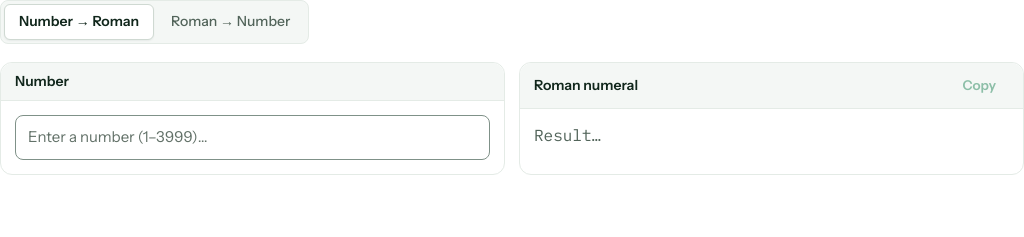
Test: RomanNumerals › converts 3999 to MMMCMXCIX
This screenshot has width=1024, height=237.
In the field with placeholder "Enter a number (1–3999)…": (252, 138) [15,115,490,160], type "3999"
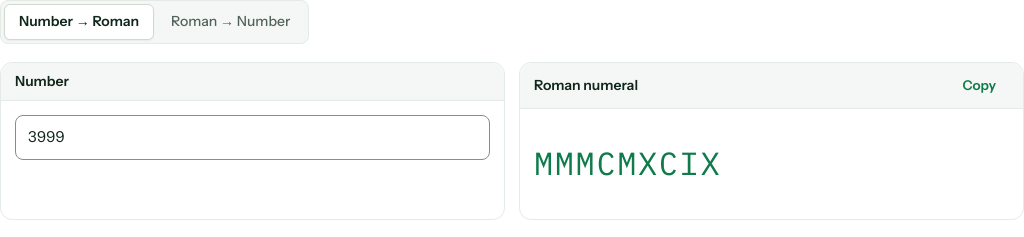
Result: the text "MMMCMXCIX" is shown at [534,142,721,184]
